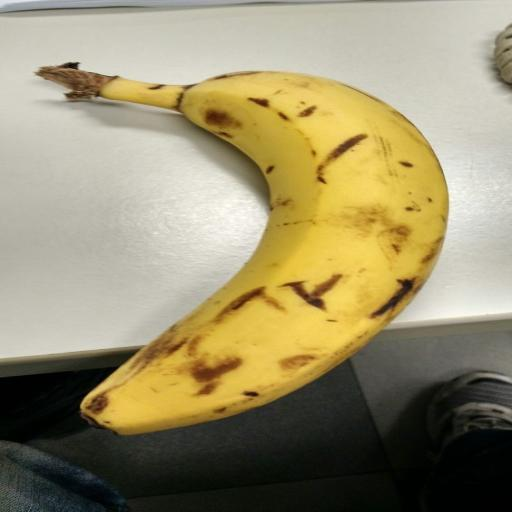banana: (38, 64, 447, 434)
